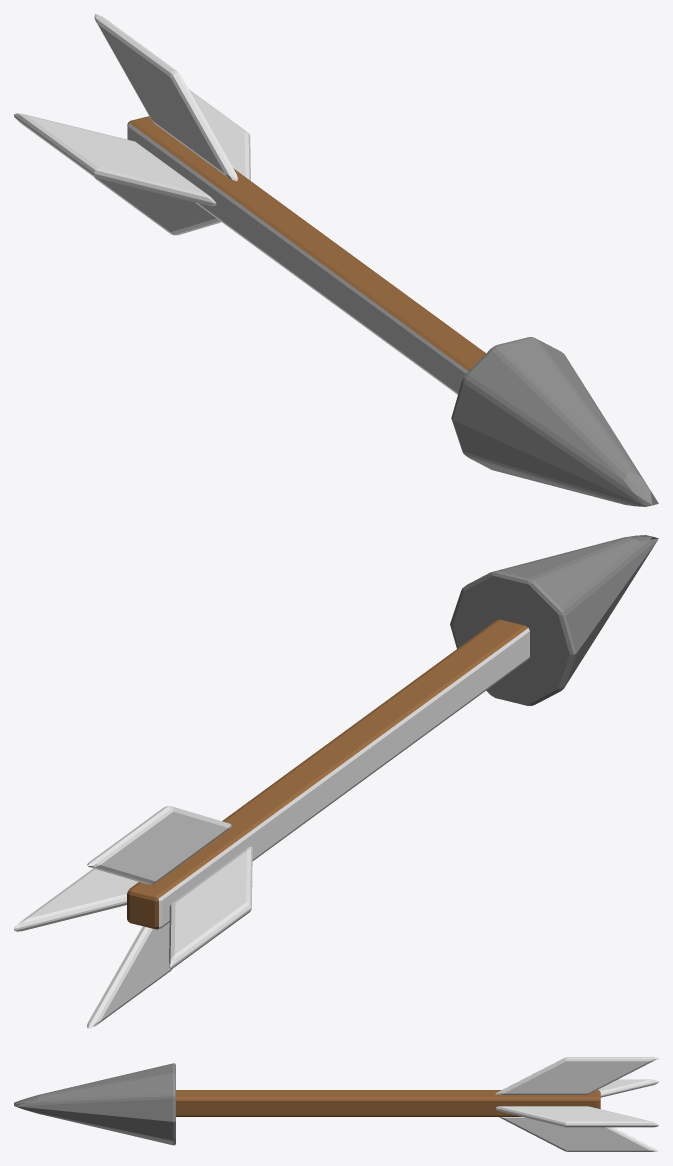
The model's file is fleche.fbx.
3 views of the same model, one above another, from view 1: azimuth 30°, elevation 25°; view 2: azimuth 150°, elevation 25°; view 3: azimuth 270°, elevation 25° (orthographic). The views are drawn at different scales.
Parts seen in each view (by area): view 1: Cube.003; view 2: Cube.003; view 3: Cube.003.
Boxes of the visible parts, bbox=[...] form: Cube.003: bbox=[14, 14, 658, 506]; Cube.003: bbox=[14, 535, 658, 1028]; Cube.003: bbox=[14, 1057, 658, 1151].
Bounding box in the file's own units: 47.83 × 47.83 × 297.
